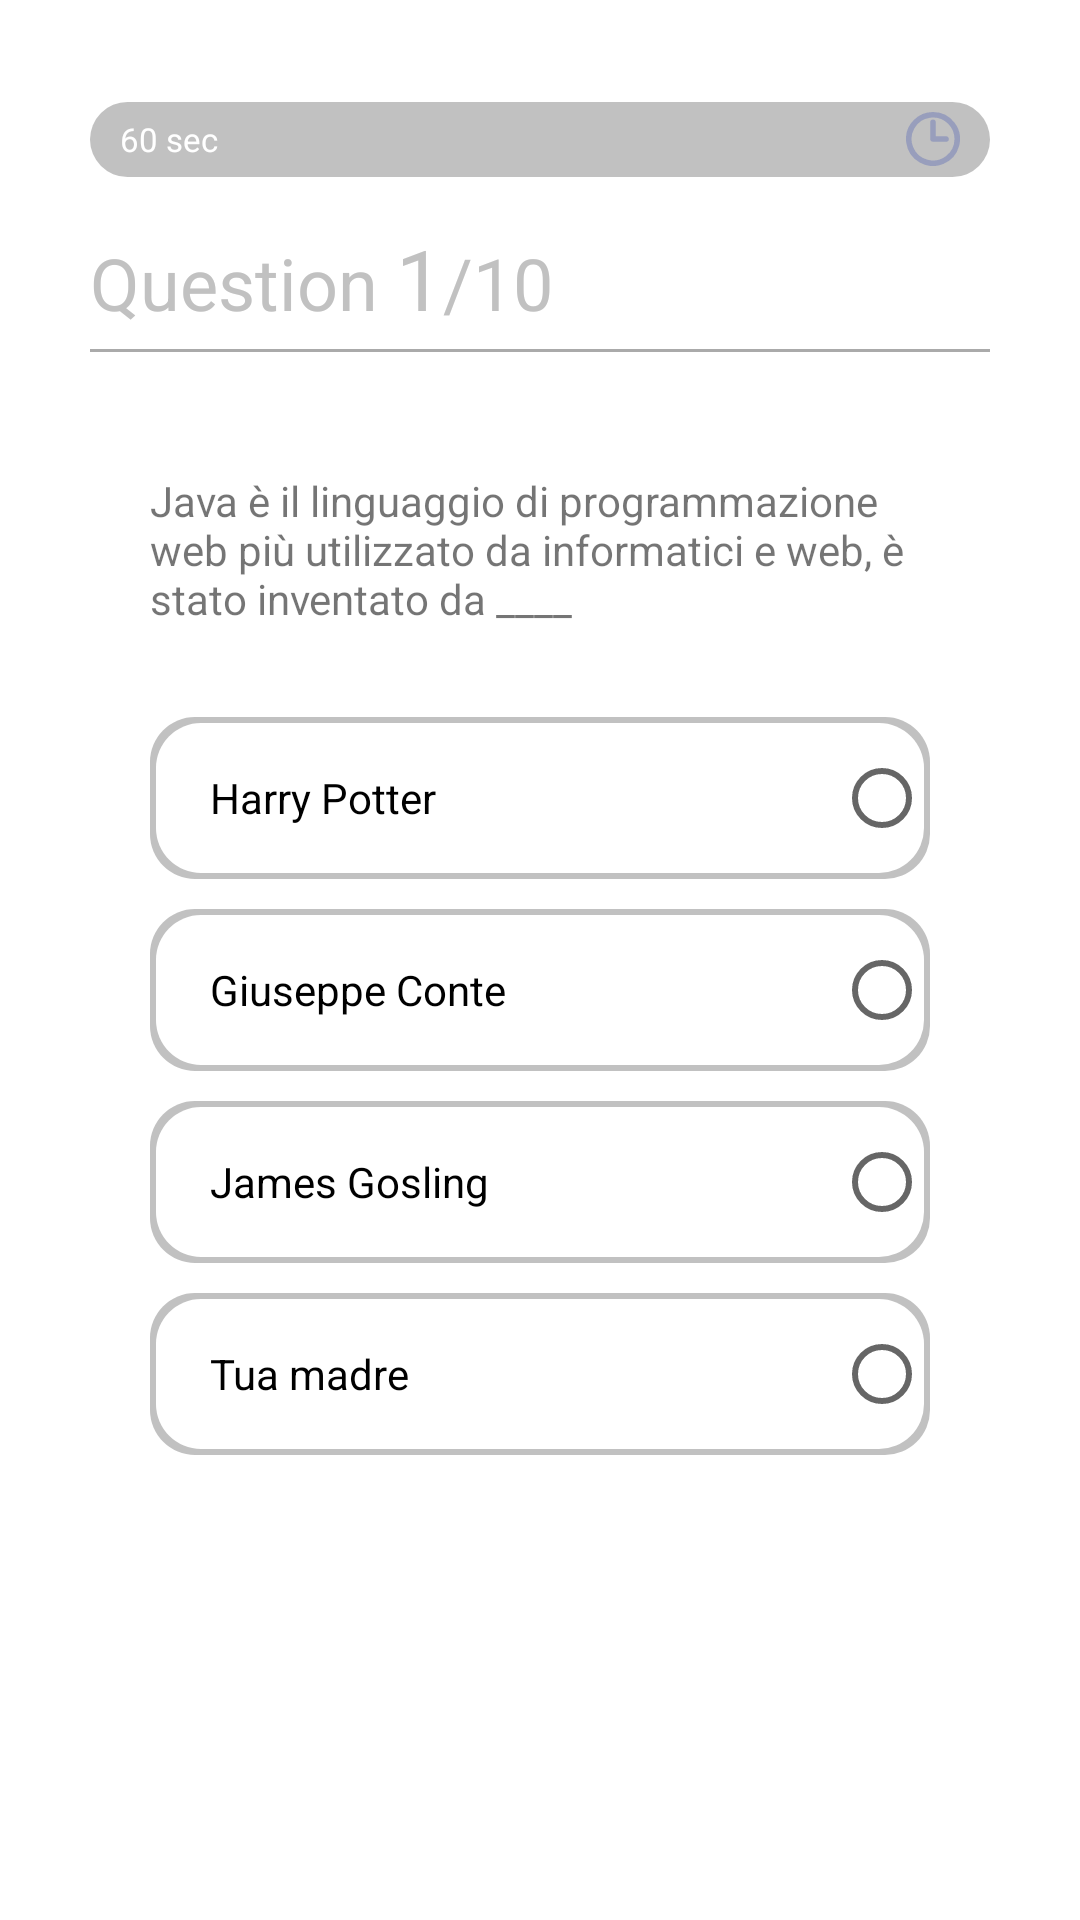

Where icons sit on this 1080 × 1920 app screen, as rect(x1, y1, x2, y2):
clock: rect(906, 112, 960, 166)
